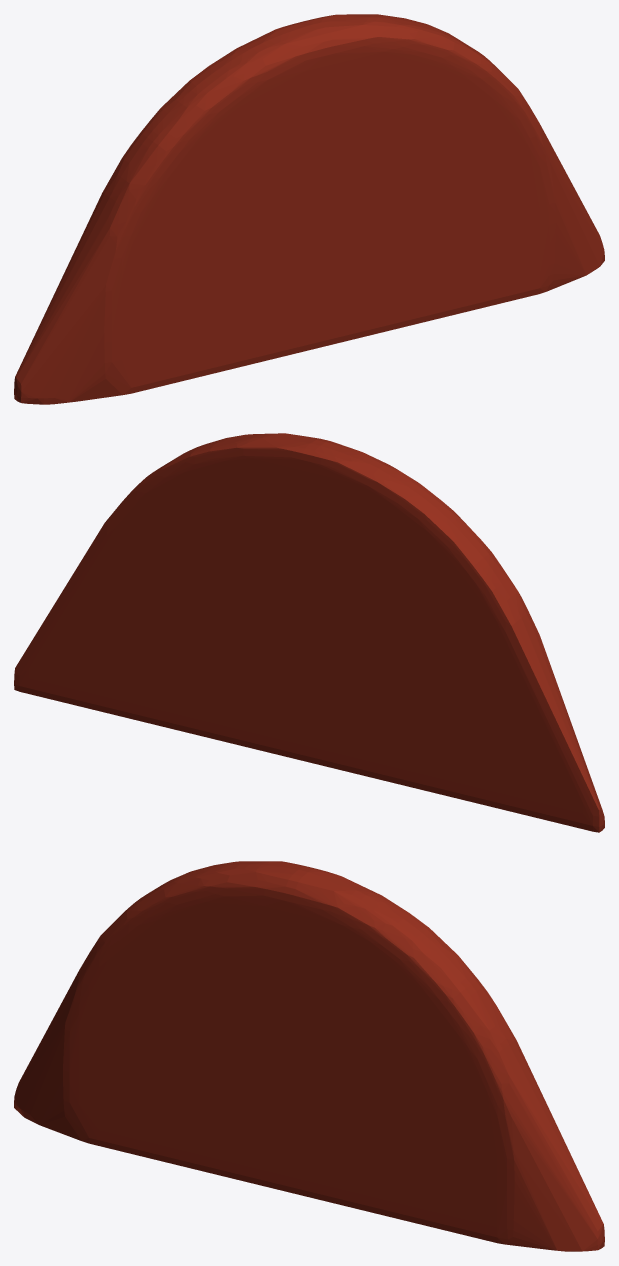
Rendered from pelvis_part_15.obj.
3 views of the same model, one above another, from view 1: azimuth 30°, elevation 25°; view 2: azimuth 150°, elevation 25°; view 3: azimuth 330°, elevation 25° (orthographic).
Bounding box in the file's own units: 0.1122 × 0.0575 × 0.00816.
